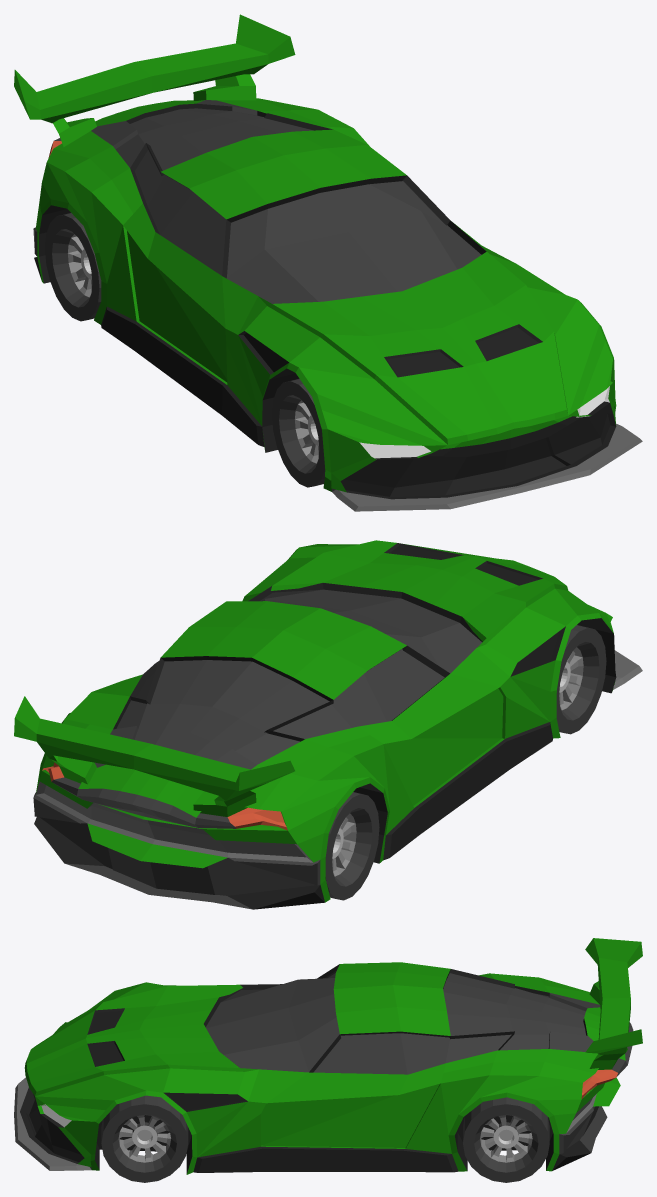
The model's file is astonmartinvulcan.fbx.
3 renders of one model, top to bottom at view 1: azimuth 30°, elevation 25°; view 2: azimuth 150°, elevation 25°; view 3: azimuth 270°, elevation 25°, orthographic. The views are drawn at different scales.
Visible parts, largest first — view 1: GreenBody, BackRight, FrontRight; view 2: GreenBody, BackRight, FrontRight; view 3: GreenBody, FrontLeft, BackLeft.
Part boxes in pixels (left/top/right/bottom): GreenBody: left=14, top=14, right=642, bottom=511; BackRight: left=45, top=213, right=101, bottom=321; FrontRight: left=272, top=378, right=325, bottom=487; GreenBody: left=14, top=540, right=642, bottom=909; BackRight: left=325, top=792, right=379, bottom=900; FrontRight: left=556, top=625, right=606, bottom=734; GreenBody: left=14, top=938, right=642, bottom=1174; FrontLeft: left=101, top=1095, right=188, bottom=1182; BackLeft: left=463, top=1097, right=549, bottom=1182.
Size of the model in its own units: 2.09 by 4.84 by 1.22.
